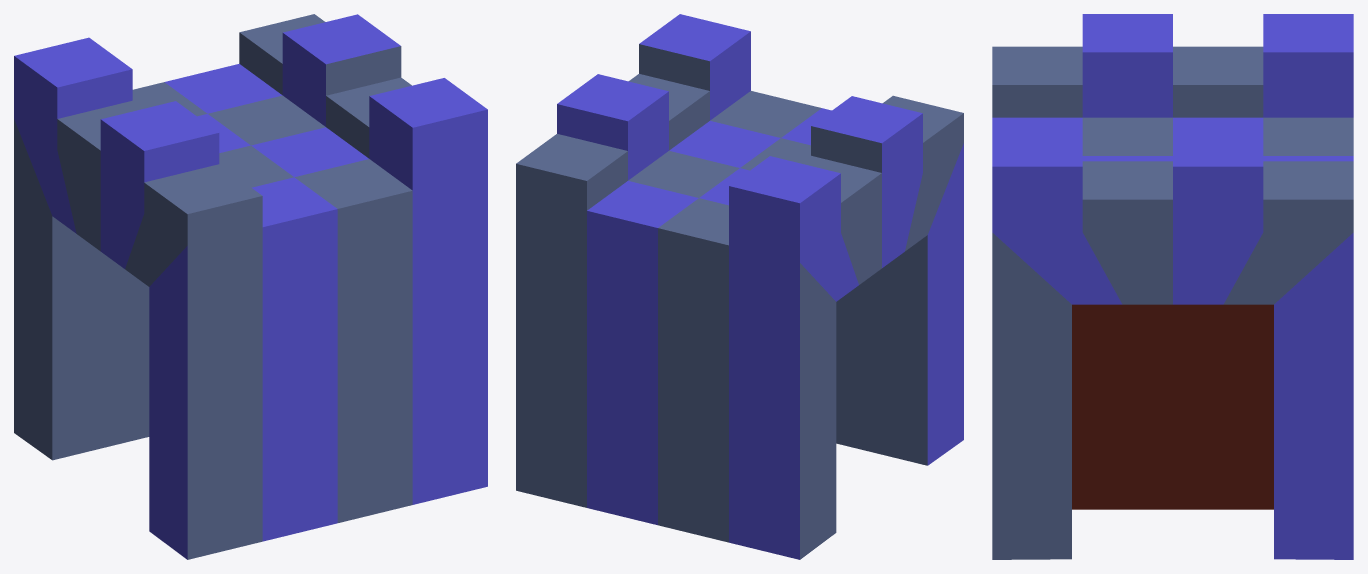
File: wall_gate.fbx
3 views of the same model, side by side, from view 1: azimuth 30°, elevation 25°; view 2: azimuth 150°, elevation 25°; view 3: azimuth 270°, elevation 25° (orthographic). The views are drawn at different scales.
Visible parts, largest first — view 1: Cube; view 2: Cube; view 3: Cube.
Part boxes in pixels (bbox=[...]): Cube: bbox=[14, 14, 487, 559]; Cube: bbox=[516, 14, 963, 559]; Cube: bbox=[992, 14, 1353, 559].
Size of the model in its own units: 200 by 240 by 200.
